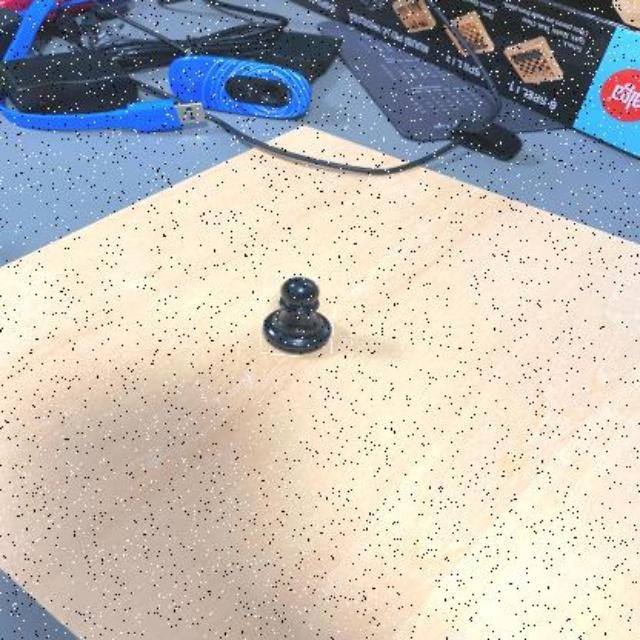black-pawn: (261, 277, 334, 357)
